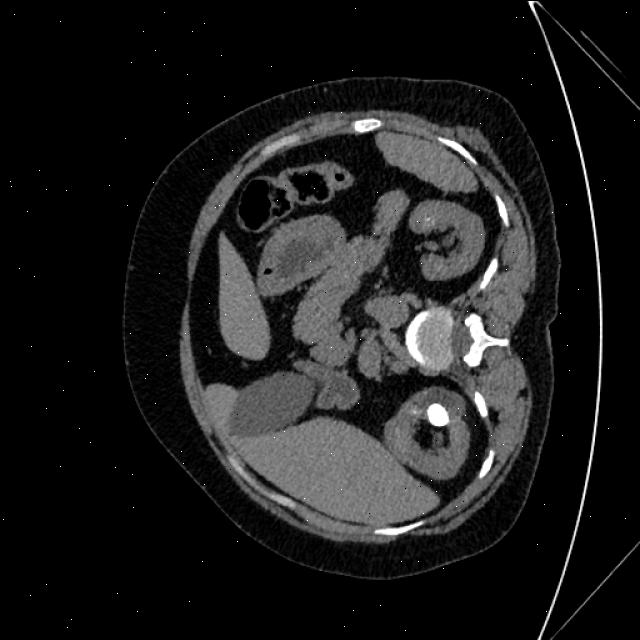kidneystone: (426, 402, 449, 426)
